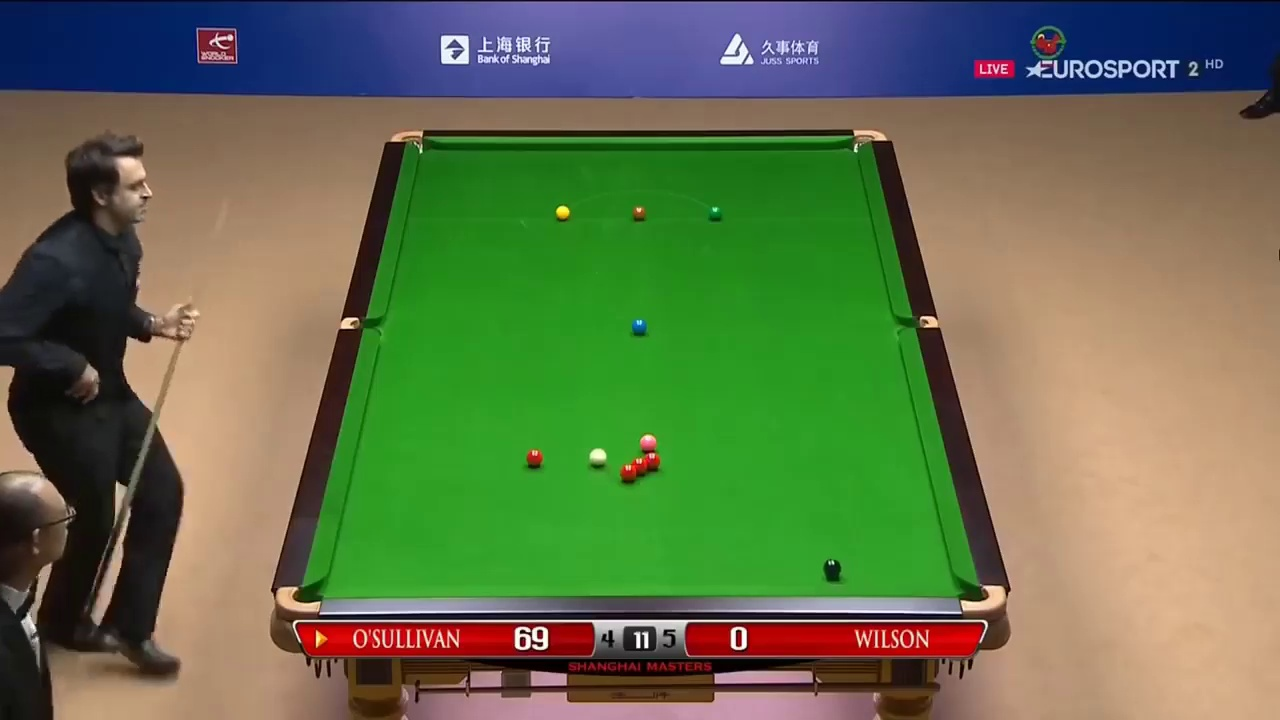ball: (616, 460, 637, 483), (823, 558, 841, 580), (586, 447, 609, 464), (638, 431, 658, 450), (525, 446, 541, 466), (633, 316, 648, 332), (632, 204, 646, 219), (556, 206, 570, 220), (706, 205, 720, 218)
